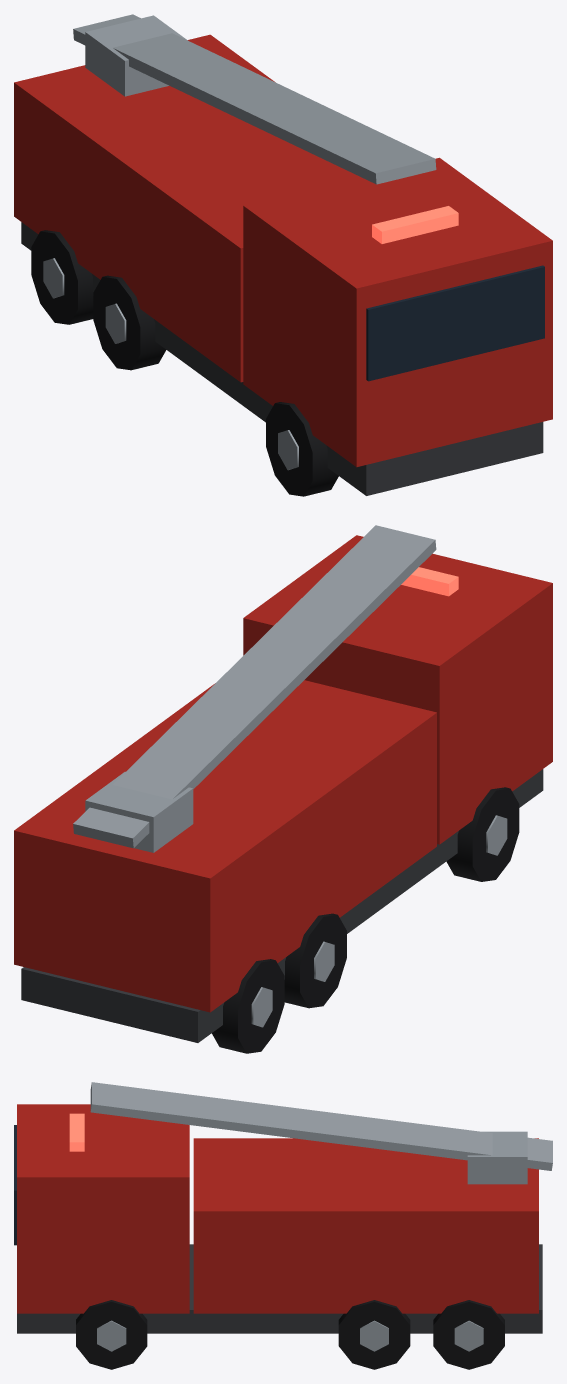
The model's file is veh_ground_fire_truck_a09.glb.
3 renders of one model, top to bottom at view 1: azimuth 30°, elevation 25°; view 2: azimuth 150°, elevation 25°; view 3: azimuth 270°, elevation 25°, orthographic. The views are drawn at different scales.
Visible parts, largest first — view 1: body, ladder, wheel_2, wheel_4, wheel_0; view 2: body, ladder, wheel_4, wheel_0, wheel_2; view 3: body, ladder, wheel_3, wheel_5, wheel_1.
Boxes of the visible parts, x1,y1,x2,y2 form: body: (14, 34, 552, 495); ladder: (73, 14, 436, 184); wheel_2: (93, 275, 165, 370); wheel_4: (266, 402, 338, 496); wheel_0: (31, 230, 93, 324); body: (14, 535, 552, 1042); ladder: (73, 525, 436, 852); wheel_4: (446, 787, 519, 881); wheel_0: (212, 959, 284, 1053); wheel_2: (284, 913, 346, 1008); body: (14, 1104, 542, 1333); ladder: (90, 1082, 552, 1184); wheel_3: (338, 1300, 410, 1369); wheel_5: (76, 1300, 147, 1369); wheel_1: (433, 1300, 504, 1369).
Size of what is drawn, in the model's own units: 2.46 by 3.5 by 7.18.
